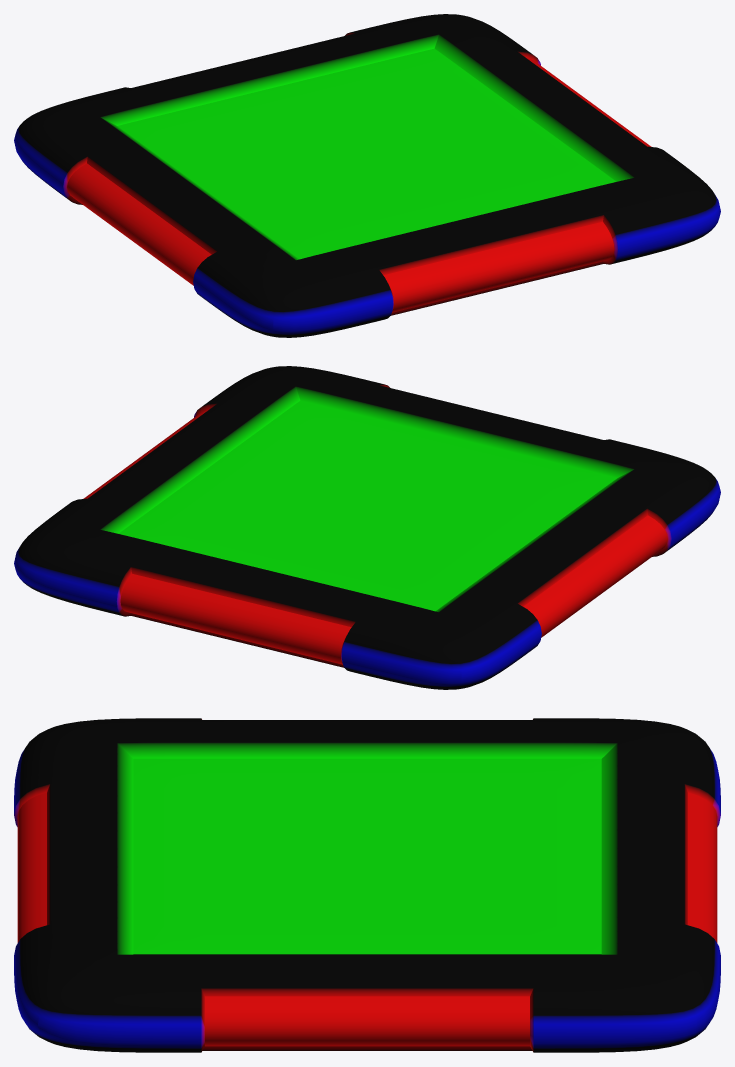
File: platform.fbx
3 views of the same model, one above another, from view 1: azimuth 30°, elevation 25°; view 2: azimuth 150°, elevation 25°; view 3: azimuth 270°, elevation 25° (orthographic). The views are drawn at different scales.
Visible parts, largest first — view 1: geo1; view 2: geo1; view 3: geo1.
Boxes of the visible parts, box(x1,y1,x2,y2) form: geo1: box(14, 14, 720, 337); geo1: box(14, 366, 720, 689); geo1: box(14, 718, 720, 1052).
Bounding box in the file's own units: 1.99 × 0.2299 × 1.99.
